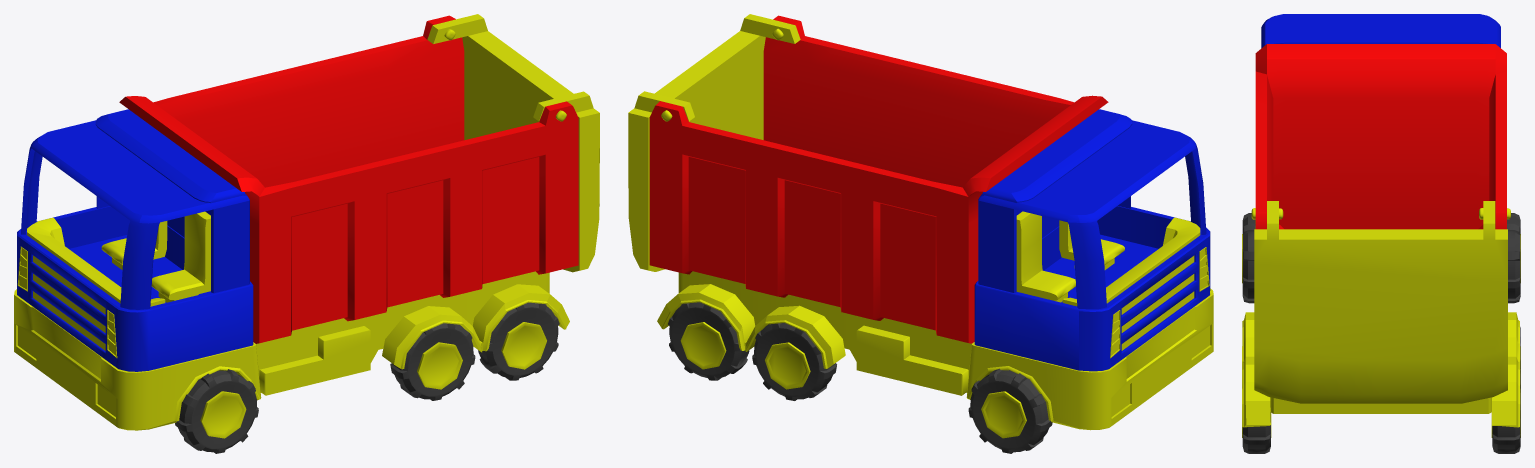
File: camion.glb
3 views of the same model, side by side, from view 1: azimuth 30°, elevation 25°; view 2: azimuth 150°, elevation 25°; view 3: azimuth 270°, elevation 25° (orthographic). The views are drawn at different scales.
Parts seen in each view (by area): view 1: Cube; view 2: Cube; view 3: Cube.
Boxes of the visible parts, <box> form: Cube: <box>14,14,599,453</box>; Cube: <box>628,14,1213,453</box>; Cube: <box>1242,14,1520,453</box>.
Bounding box in the file's own units: 5.77 × 3.06 × 2.88.
